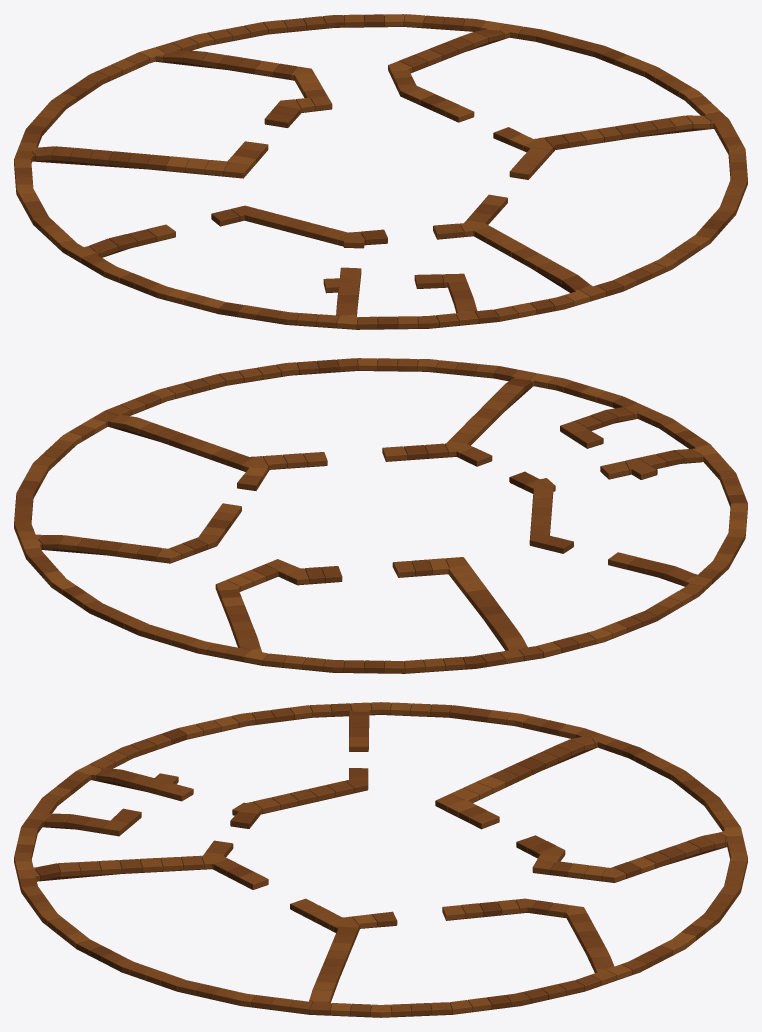
The model's file is SM_BunkerWallCrown.fbx.
3 views of the same model, one above another, from view 1: azimuth 30°, elevation 25°; view 2: azimuth 150°, elevation 25°; view 3: azimuth 270°, elevation 25° (orthographic).
Parts seen in each view (by area): view 1: SM_BunkerWallCrown; view 2: SM_BunkerWallCrown; view 3: SM_BunkerWallCrown.
Boxes of the visible parts, <box> form: SM_BunkerWallCrown: <box>14,14,747,329</box>; SM_BunkerWallCrown: <box>14,358,747,673</box>; SM_BunkerWallCrown: <box>14,702,747,1017</box>.
Size of the model in its own units: 18.18 by 18.18 by 0.2486.
